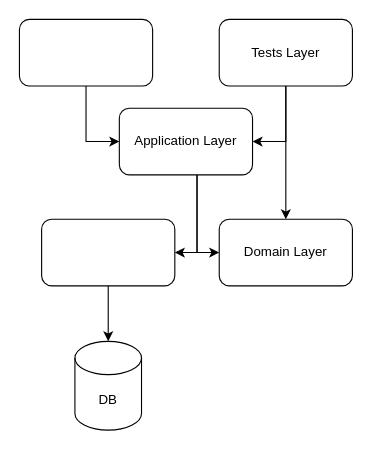
Some shapes in this 372 by 450 pixel diagram are drawn without their labels. The shapes that lost their labels are listed below. From the top down, each one's centre as x and y in pixels, then its label:
point (85, 52): Host Layer (WebApi
point (108, 252): infrastructure Layer
